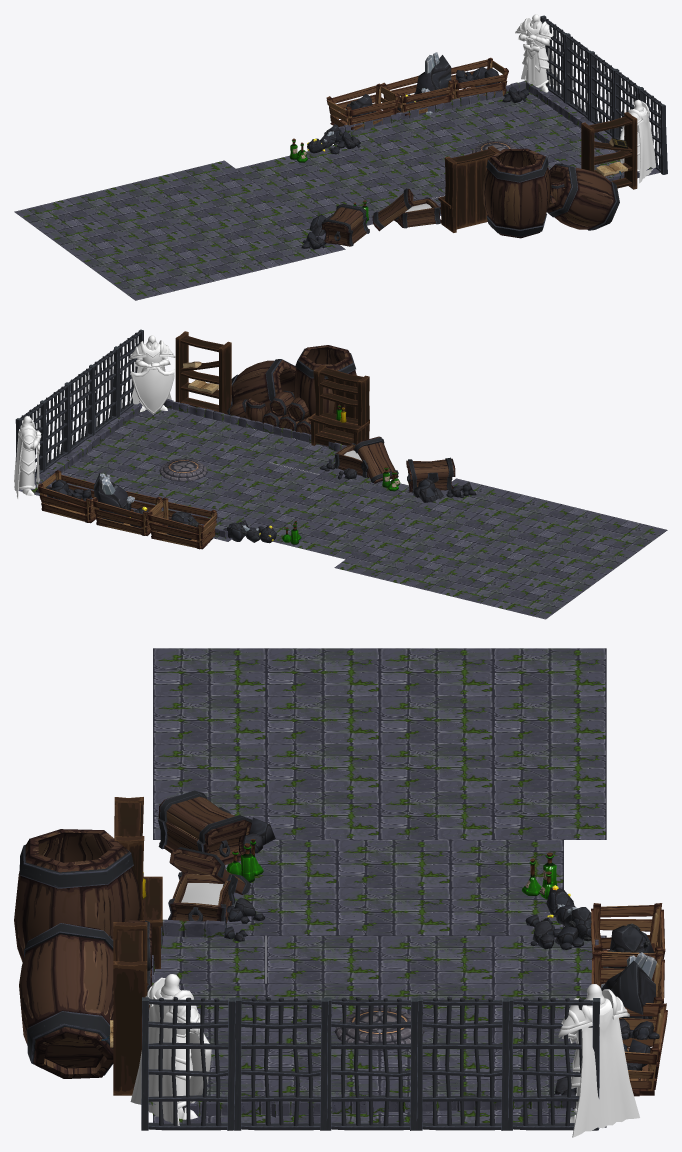
3 views of the same model, one above another, from view 1: azimuth 30°, elevation 25°; view 2: azimuth 150°, elevation 25°; view 3: azimuth 270°, elevation 25° (orthographic). The views are drawn at different scales.
Parts seen in each view (by area): view 1: SM_PROP_barrel_dungeon_02 (1), SM_PROP_barrel_dungeon_02 (2), SM_PROP_bookshelf_dungeon_01, SM_PROP_bookshelf_dungeon_04, SM_PROP_crate_dungeon_01 (2), SM_PROP_bars_wall_dungeon_02 (3), Knight_Statue_Sword, MOD_Floor_01_O_straight_med (27), MOD_Floor_01_O_straight_med (38), MOD_Floor_01_O_straight_med (12), MOD_Floor_01_O_straight_med (25), MOD_Floor_01_O_straight_med (28) (+42 smaller); view 2: SM_PROP_bookshelf_dungeon_01, SM_PROP_bookshelf_dungeon_04, SM_PROP_crate_dungeon_01 (2), SM_PROP_barrel_dungeon_02 (1), SM_PROP_barrel_dungeon_02 (2), SM_PROP_crate_dungeon_01, SM_PROP_bars_wall_dungeon_02 (2), SM_PROP_crate_dungeon_01 (1), SM_PROP_bars_wall_dungeon_02 (1), SM_PROP_bars_wall_dungeon_02 (3), MOD_Floor_01_O_straight_med (23), MOD_Floor_01_O_straight_med (33) (+46 smaller); view 3: SM_PROP_barrel_dungeon_02 (2), SM_PROP_barrel_dungeon_02 (1), SM_PROP_bars_wall_dungeon_02, SM_PROP_bars_wall_dungeon_02 (1), SM_PROP_bars_wall_dungeon_02 (3), Knight_Statue_Sword, SM_PROP_bars_wall_dungeon_02 (2), MOD_Floor_01_O_straight_med (12), SM_PROP_bars_wall_dungeon_02 (4), MOD_Floor_01_O_straight_med (14), MOD_Floor_01_O_straight_med (25), MOD_Floor_01_O_straight_med (26) (+53 smaller).
Boxes of the visible parts, x1,y1,x2,y2 form: SM_PROP_barrel_dungeon_02 (1): [482, 148, 551, 238]; SM_PROP_barrel_dungeon_02 (2): [547, 163, 619, 230]; SM_PROP_bookshelf_dungeon_01: [438, 145, 500, 232]; SM_PROP_bookshelf_dungeon_04: [581, 112, 637, 189]; SM_PROP_crate_dungeon_01 (2): [326, 83, 399, 130]; SM_PROP_bars_wall_dungeon_02 (3): [564, 33, 591, 121]; Knight_Statue_Sword: [515, 14, 560, 92]; MOD_Floor_01_O_straight_med (27): [172, 160, 254, 195]; MOD_Floor_01_O_straight_med (38): [158, 253, 240, 287]; MOD_Floor_01_O_straight_med (12): [360, 144, 442, 179]; MOD_Floor_01_O_straight_med (25): [150, 195, 232, 230]; MOD_Floor_01_O_straight_med (28): [97, 208, 179, 243]; SM_PROP_bookshelf_dungeon_01: [308, 365, 369, 446]; SM_PROP_bookshelf_dungeon_04: [175, 331, 231, 414]; SM_PROP_crate_dungeon_01 (2): [147, 497, 217, 549]; SM_PROP_barrel_dungeon_02 (1): [293, 345, 356, 417]; SM_PROP_barrel_dungeon_02 (2): [230, 359, 296, 410]; SM_PROP_crate_dungeon_01: [38, 470, 95, 523]; SM_PROP_bars_wall_dungeon_02 (2): [64, 366, 94, 452]; SM_PROP_crate_dungeon_01 (1): [92, 491, 161, 535]; SM_PROP_bars_wall_dungeon_02 (1): [89, 348, 118, 434]; SM_PROP_bars_wall_dungeon_02 (3): [40, 384, 70, 469]; MOD_Floor_01_O_straight_med (23): [323, 502, 406, 536]; MOD_Floor_01_O_straight_med (33): [585, 517, 667, 552]; SM_PROP_barrel_dungeon_02 (2): [19, 923, 113, 1078]; SM_PROP_barrel_dungeon_02 (1): [14, 829, 141, 962]; SM_PROP_bars_wall_dungeon_02: [141, 997, 235, 1130]; SM_PROP_bars_wall_dungeon_02 (1): [234, 996, 328, 1130]; SM_PROP_bars_wall_dungeon_02 (3): [415, 997, 509, 1130]; Knight_Statue_Sword: [558, 984, 639, 1137]; SM_PROP_bars_wall_dungeon_02 (2): [324, 996, 418, 1130]; MOD_Floor_01_O_straight_med (12): [379, 935, 493, 983]; SM_PROP_bars_wall_dungeon_02 (4): [506, 996, 600, 1130]; MOD_Floor_01_O_straight_med (14): [266, 935, 379, 983]; MOD_Floor_01_O_straight_med (25): [379, 744, 493, 791]; MOD_Floor_01_O_straight_med (26): [379, 792, 493, 839].
Bounding box in the file's own units: 4088 × 660 × 2306.
